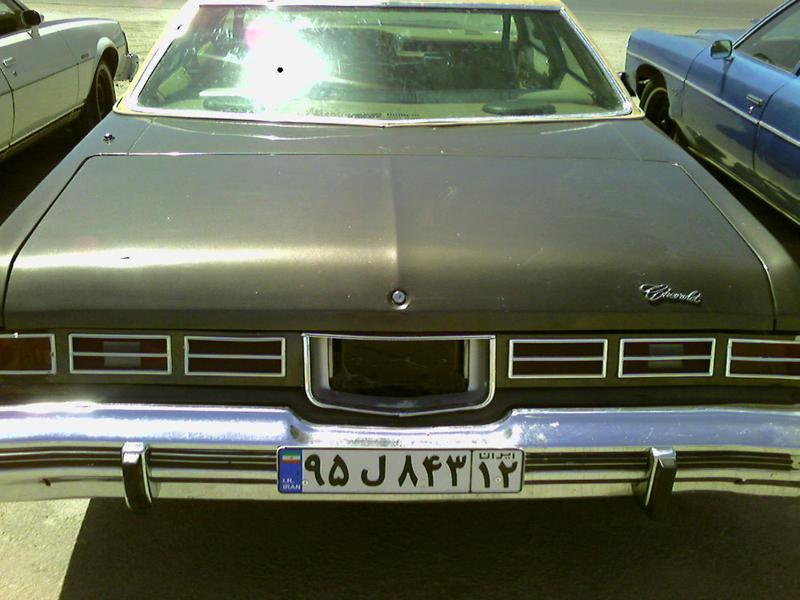Plate: (279, 446, 524, 496)
